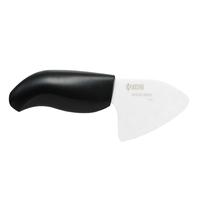knife: (7, 66, 191, 136)
